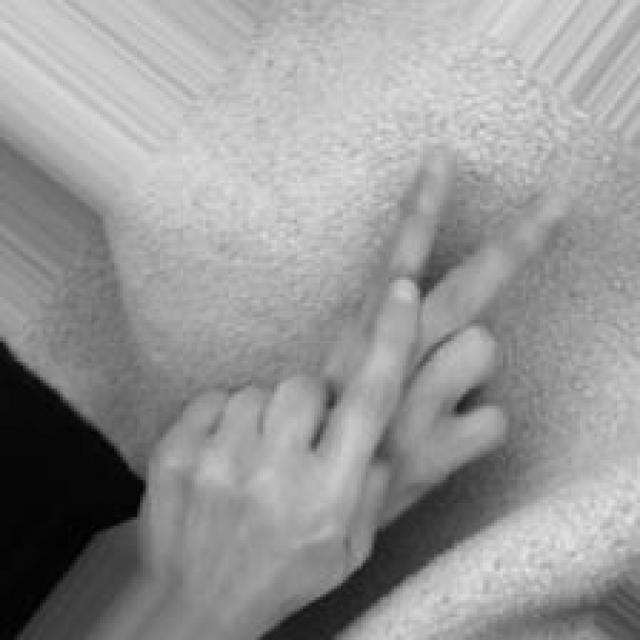Y: (151, 143, 576, 610)
